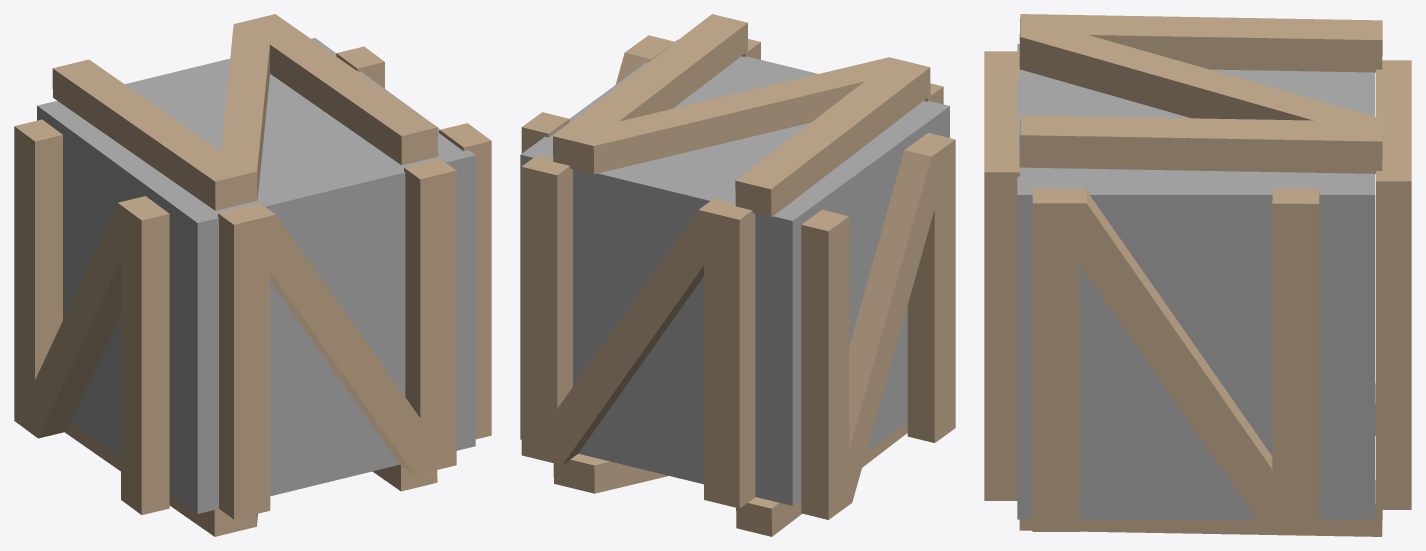
Rendered from LetterN.fbx.
The picture shows the model from 3 angles, left to right: view 1: azimuth 30°, elevation 25°; view 2: azimuth 150°, elevation 25°; view 3: azimuth 270°, elevation 25°; orthographic projection. The views are drawn at different scales.
Parts seen in each view (by area): view 1: Box, Text Front, Text Left, Text Top, Text Right, Text Bottom; view 2: Box, Text Back, Text Left, Text Top, Text Bottom, Text Right, Text Front; view 3: Box, Text Right, Text Top, Text Back, Text Front, Text Bottom.
Boxes of the visible parts, x1=… form: Box: x1=37, y1=38, x2=475, y2=513; Text Front: x1=218, y1=159, x2=456, y2=519; Text Left: x1=14, y1=119, x2=169, y2=514; Text Top: x1=52, y1=14, x2=438, y2=210; Text Right: x1=336, y1=46, x2=491, y2=439; Text Bottom: x1=65, y1=421, x2=437, y2=536; Box: x1=520, y1=39, x2=949, y2=505; Text Back: x1=521, y1=155, x2=755, y2=508; Text Left: x1=801, y1=133, x2=955, y2=519; Text Top: x1=553, y1=14, x2=930, y2=217; Text Bottom: x1=553, y1=422, x2=907, y2=536; Text Right: x1=521, y1=35, x2=674, y2=153; Text Front: x1=741, y1=39, x2=943, y2=104; Box: x1=1017, y1=44, x2=1375, y2=519; Text Right: x1=1032, y1=188, x2=1319, y2=532; Text Top: x1=1019, y1=14, x2=1382, y2=173; Text Back: x1=1376, y1=60, x2=1411, y2=509; Text Front: x1=984, y1=51, x2=1019, y2=500; Text Bottom: x1=1019, y1=383, x2=1382, y2=536.
Size of the model in its own units: 1.2 by 1.24 by 1.19.
